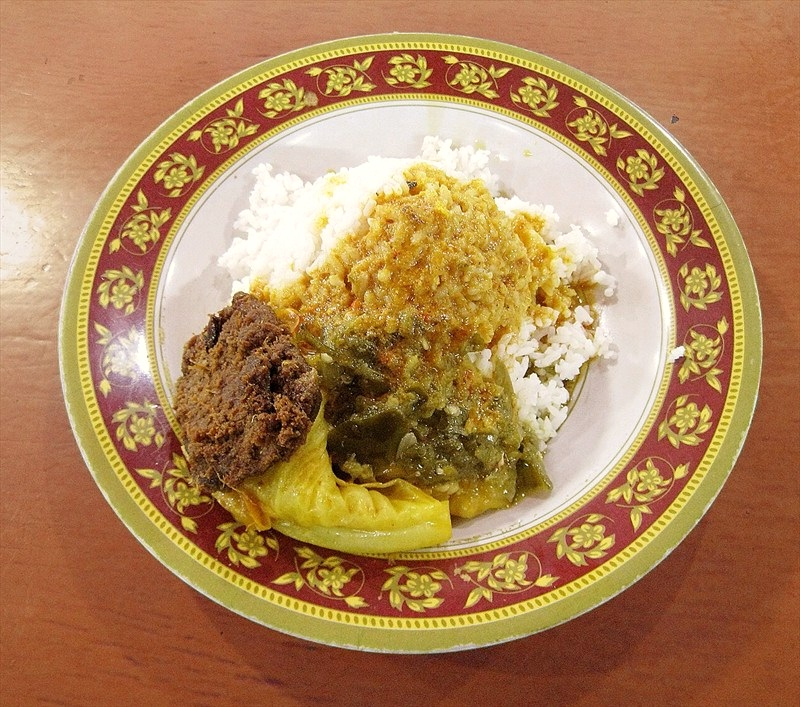Rendang: (112, 58, 718, 614)
